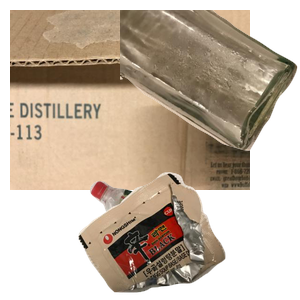cardboard: (10, 10, 250, 190)
glass: (120, 10, 300, 153)
plastic: (87, 178, 234, 300)
trash: (76, 170, 300, 300)
